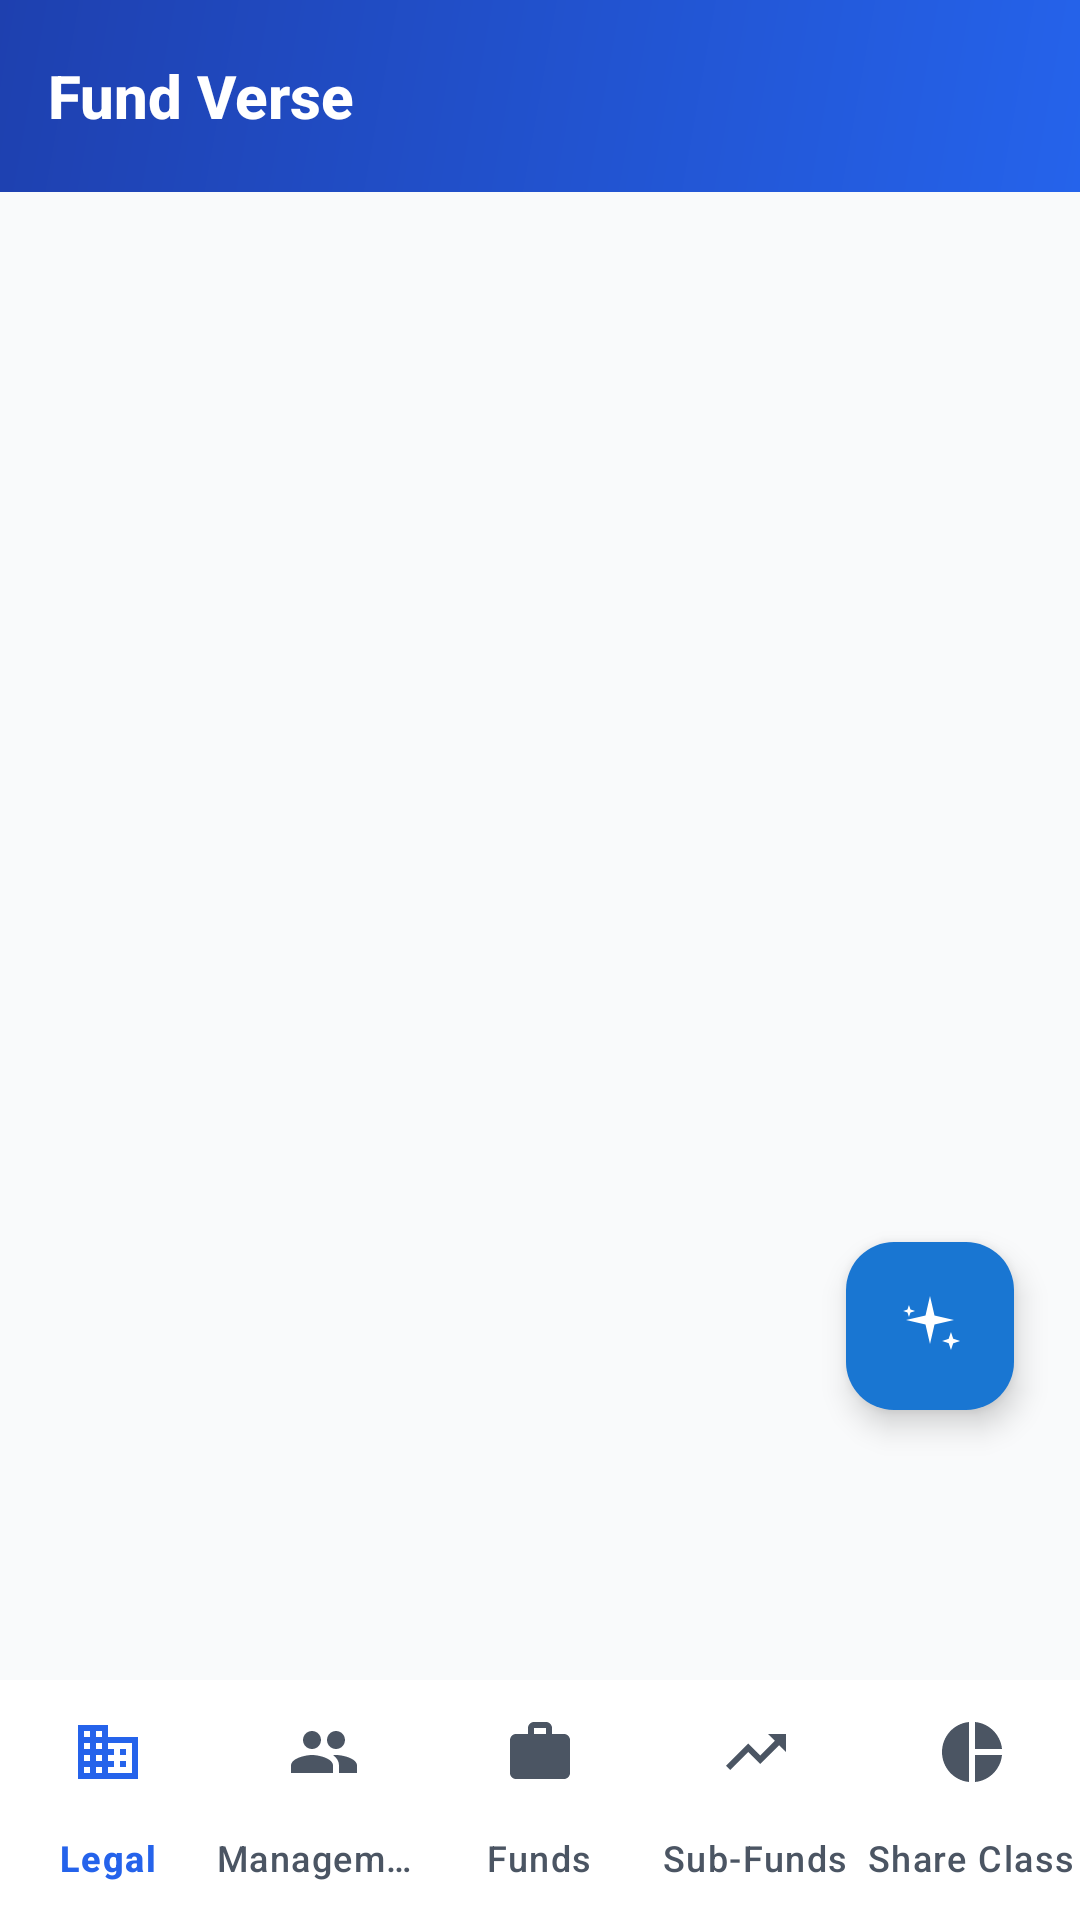

Icons on this 1080px×1920px Android screen, each with the point to tap as point (x, y):
Open AI Insights Dashboard: point (930, 1326)
